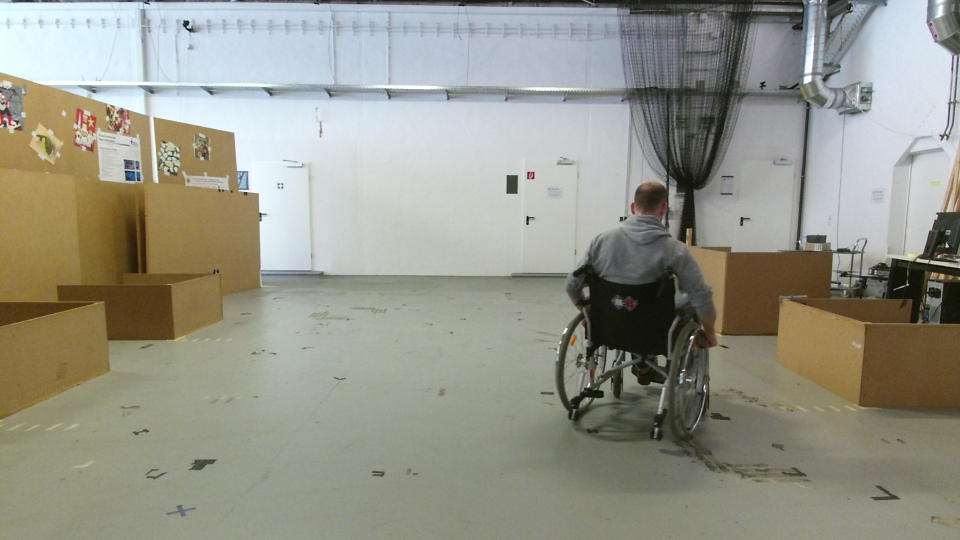wheelchair: (548, 172, 716, 450)
